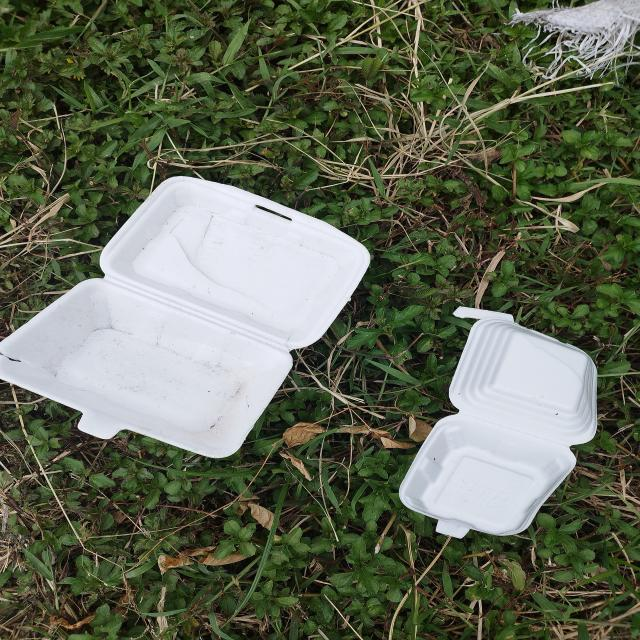foam box: (0, 175, 372, 458), (400, 304, 599, 538)
